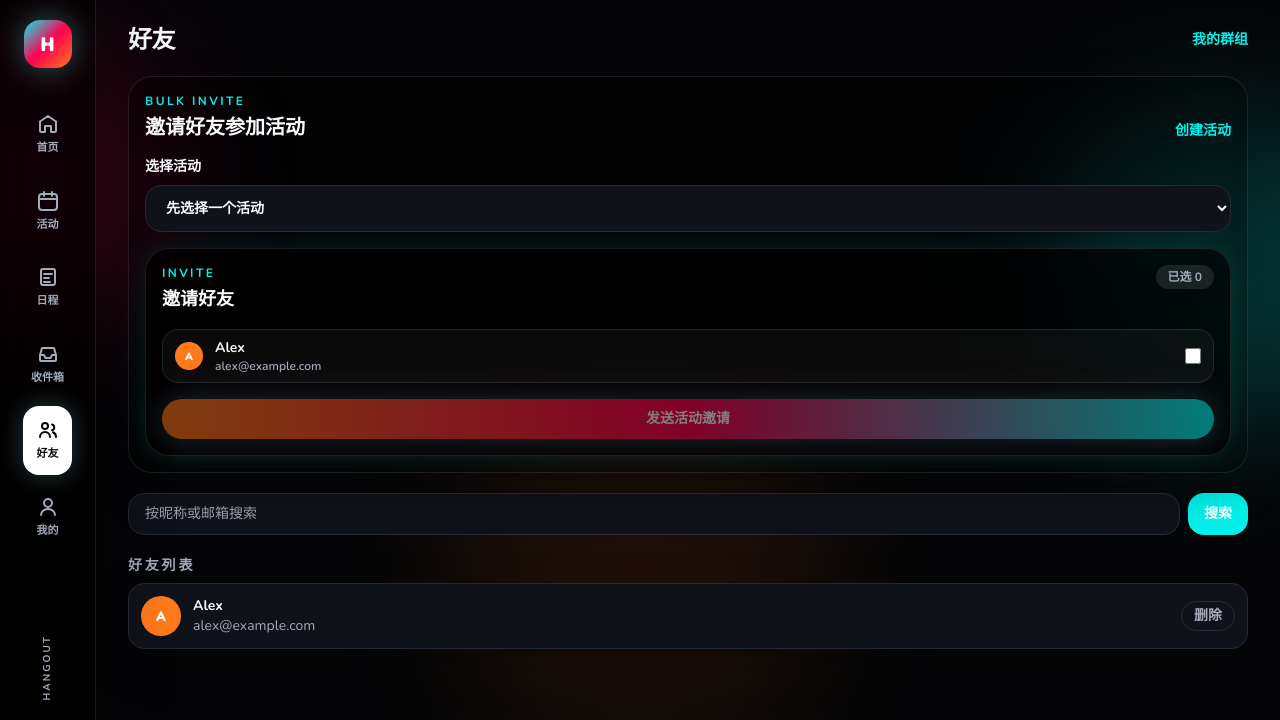
it: App › invites friends to a selected activity from the friends page
Expected: the heading "邀请好友参加活动" is shown, [145,113,305,141]
Select "周末攀岩" in the dropdown labelled "选择活动". click: x=688, y=208
box: [145,185,1231,232]
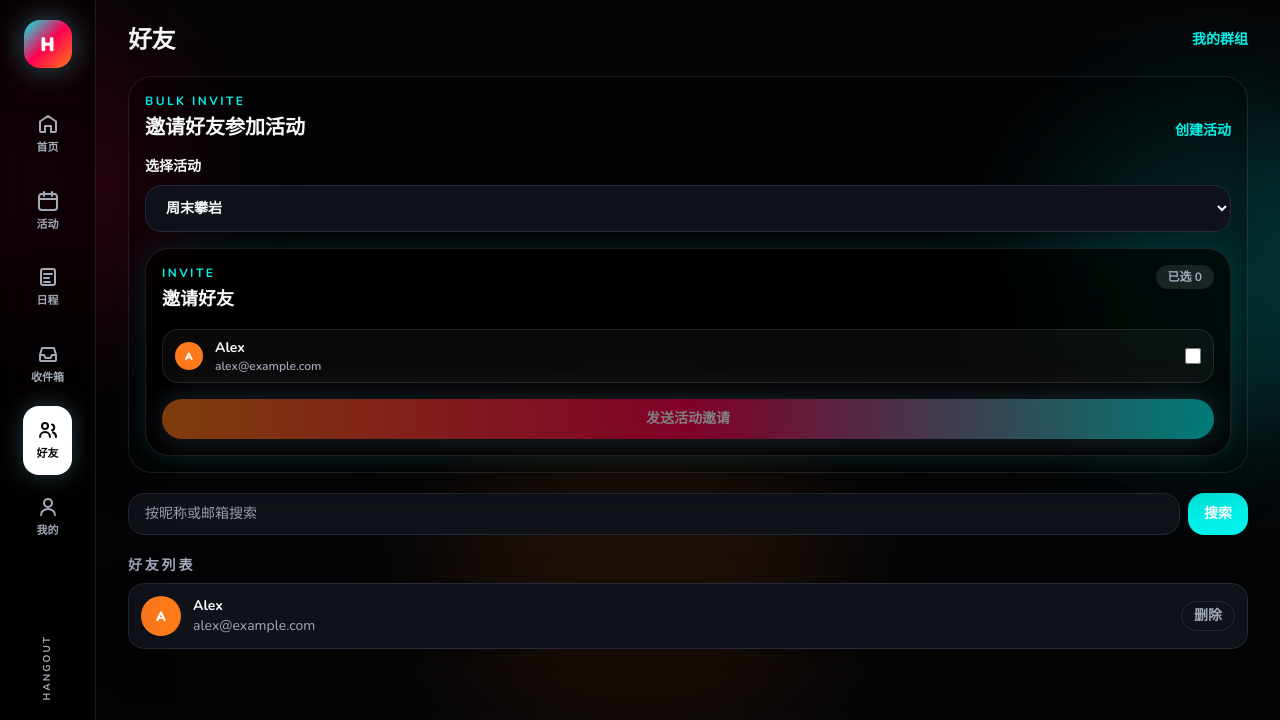
Click the checkbox named "选择 Alex". click: x=1193, y=356
box: [1185,348,1201,364]
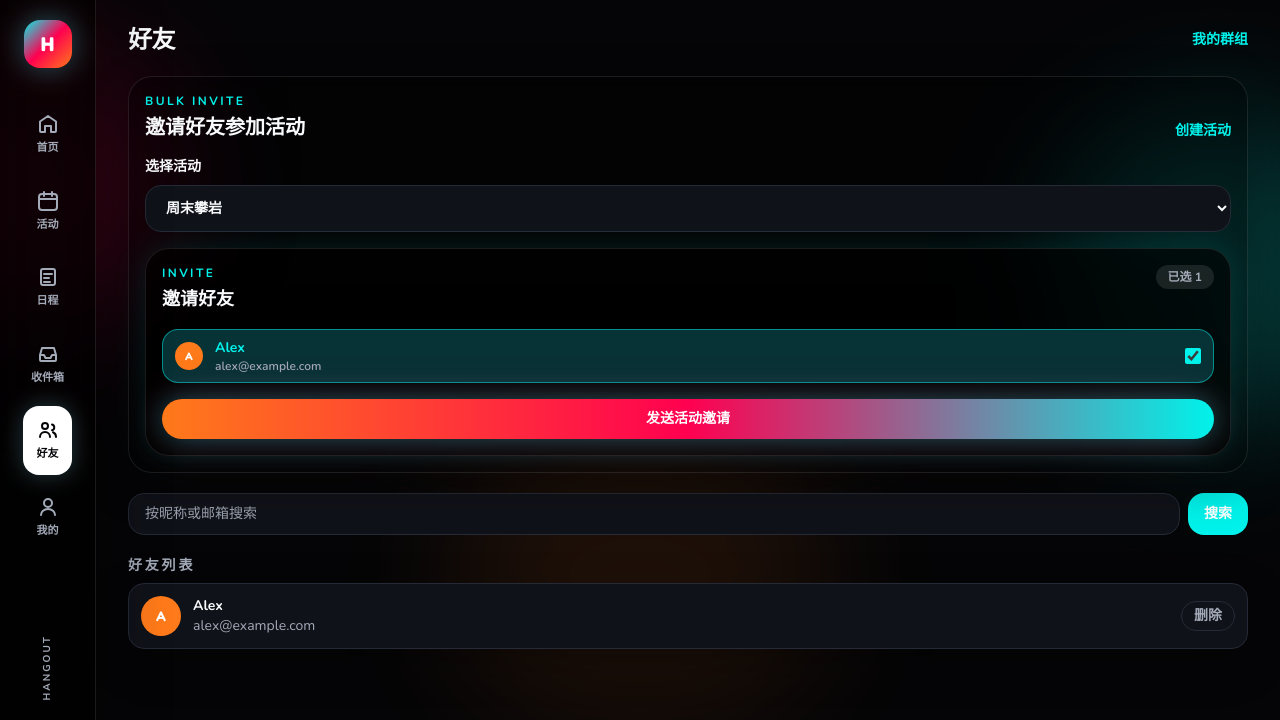
Click the button "发送活动邀请". click: x=688, y=419
box: [162,399,1214,439]
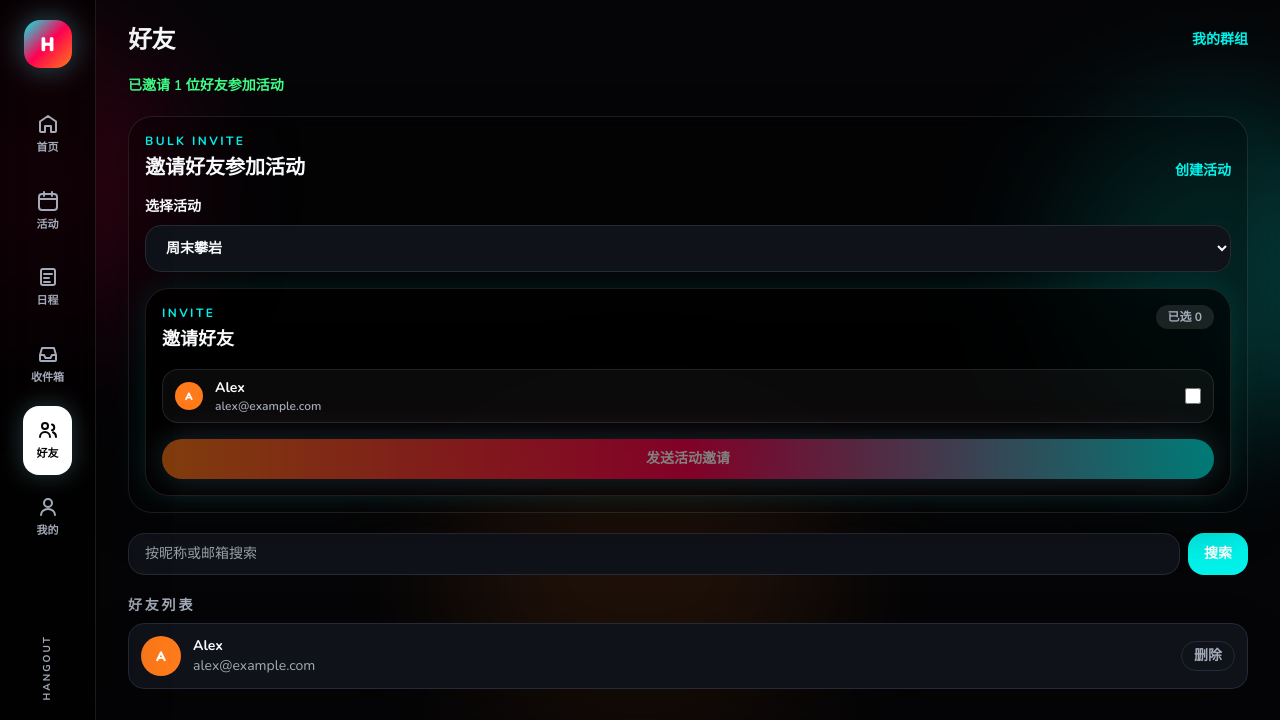
Now the text "已邀请 1 位好友参加活动" is shown, box [128,76,284,95]
